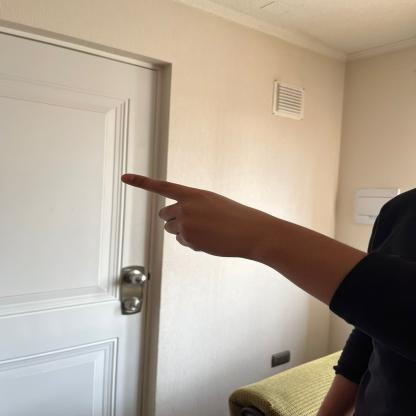Q: (115, 158, 283, 274)
